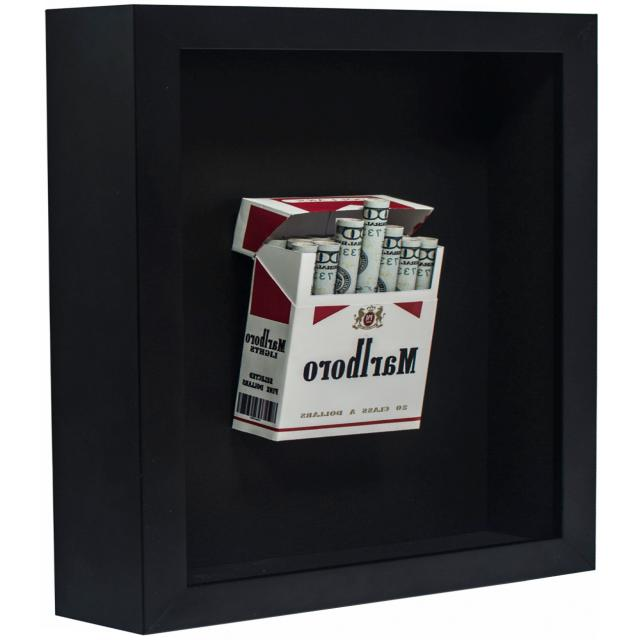marlboro: (210, 179, 443, 453)
